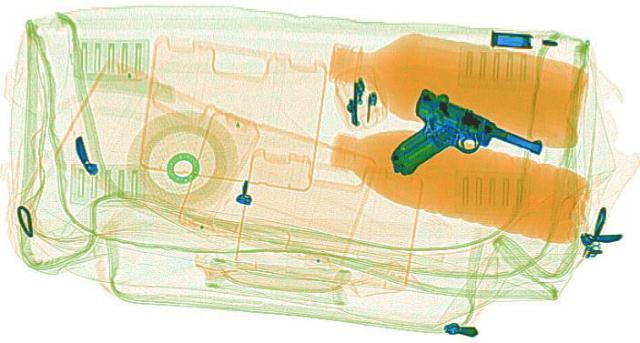Gun: (326, 86, 554, 197)
